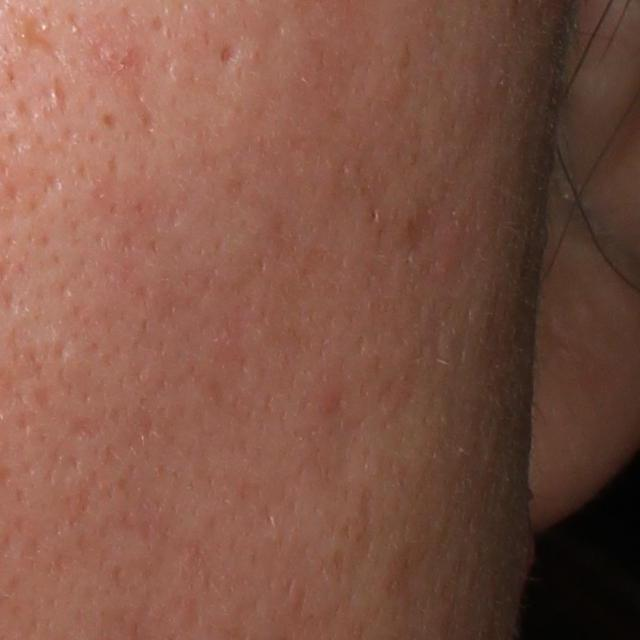atrophic_scar: (87, 28, 161, 136), (14, 9, 66, 61)
